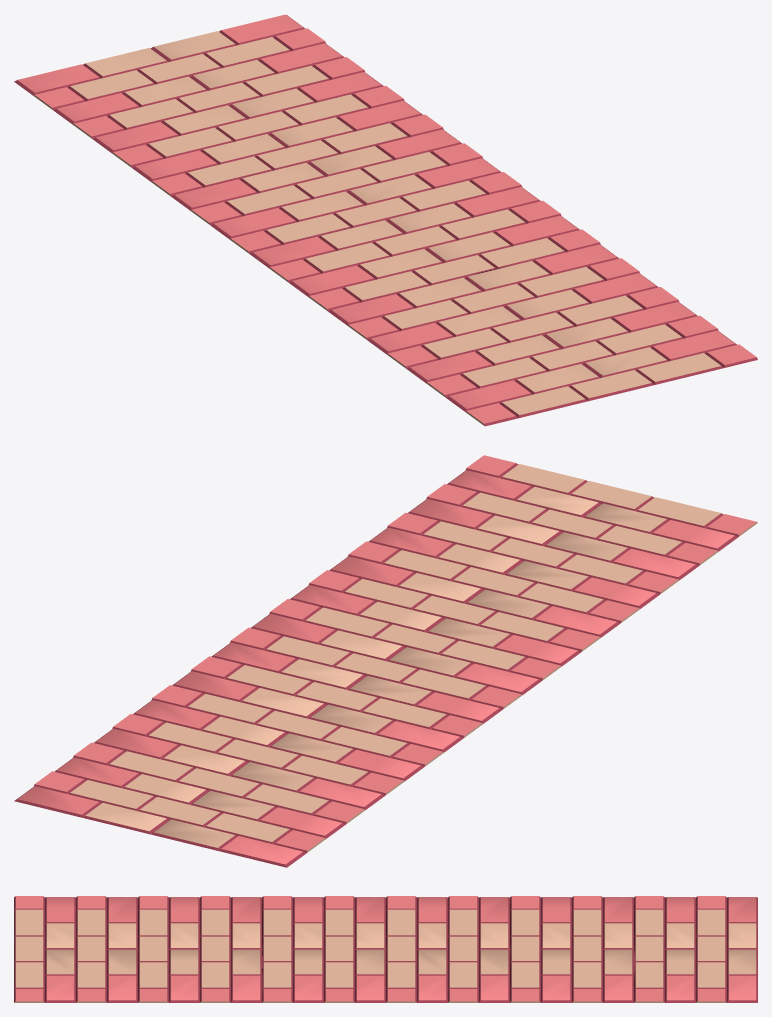
The model's file is Byukdol.fbx.
3 renders of one model, top to bottom at view 1: azimuth 30°, elevation 25°; view 2: azimuth 150°, elevation 25°; view 3: azimuth 270°, elevation 25°, orthographic. The views are drawn at different scales.
Visible parts, largest first — view 1: Byukdol; view 2: Byukdol; view 3: Byukdol.
Part boxes in pixels (bbox=[...]): Byukdol: bbox=[14, 14, 757, 426]; Byukdol: bbox=[14, 455, 757, 867]; Byukdol: bbox=[14, 896, 757, 1002].
Size of the model in its own units: 30.11 by 0.202 by 90.
